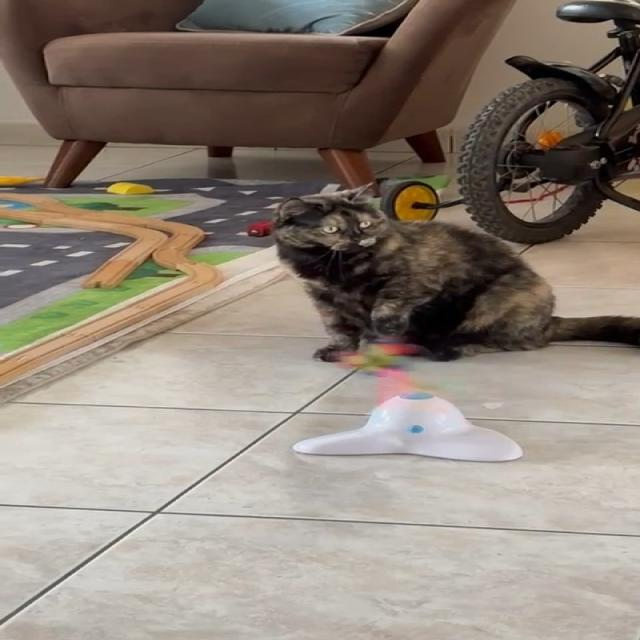authorized: (268, 182, 639, 363)
